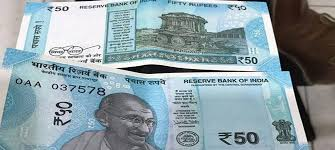fifty: (14, 72, 269, 150)
